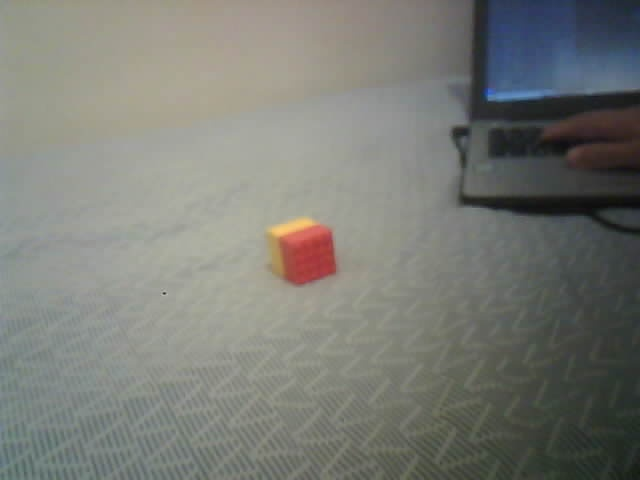lego: (262, 215, 338, 286)
